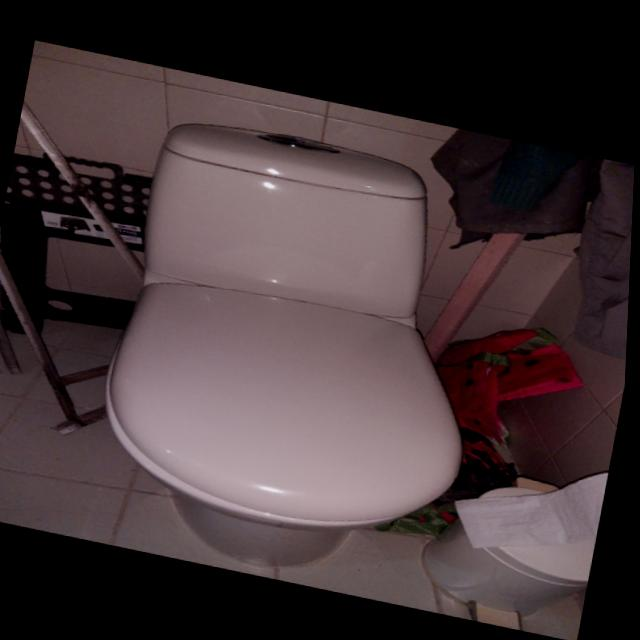toilet: (82, 100, 518, 599)
